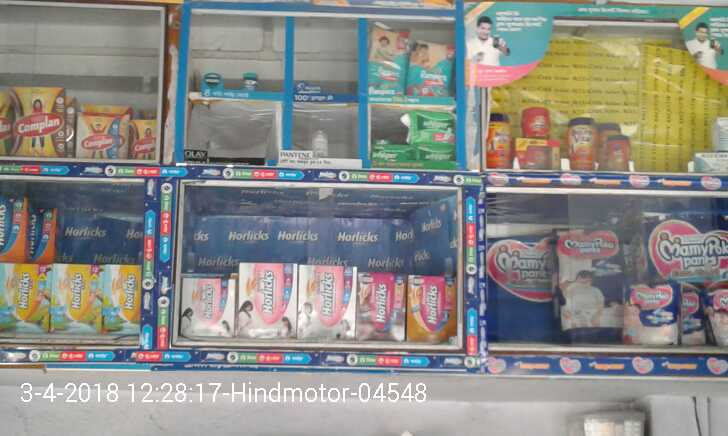vicks: (240, 72, 259, 92)
